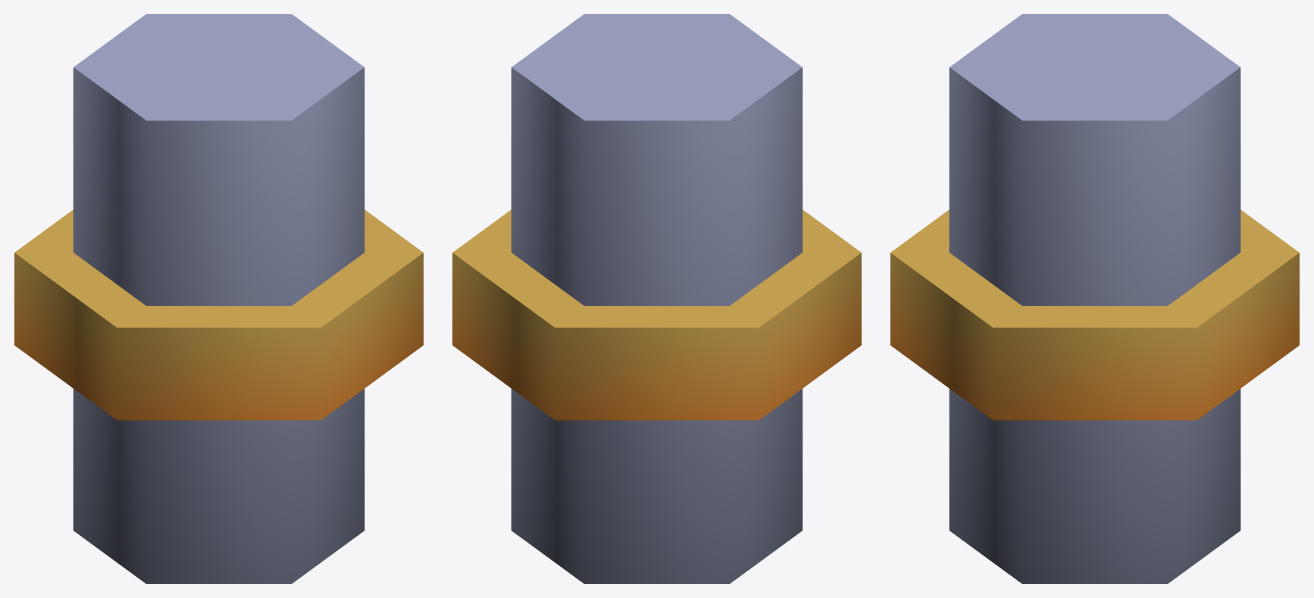
The model's file is pipe-ring-colored.glb.
3 views of the same model, side by side, from view 1: azimuth 30°, elevation 25°; view 2: azimuth 150°, elevation 25°; view 3: azimuth 270°, elevation 25° (orthographic).
Parts seen in each view (by area): view 1: pipe-ring-colored; view 2: pipe-ring-colored; view 3: pipe-ring-colored.
Boxes of the visible parts, x1,y1,x2,y2 form: pipe-ring-colored: (14, 14, 423, 583); pipe-ring-colored: (452, 14, 861, 583); pipe-ring-colored: (890, 14, 1299, 583).
Size of the model in its own units: 0.3464 by 0.5 by 0.4.
